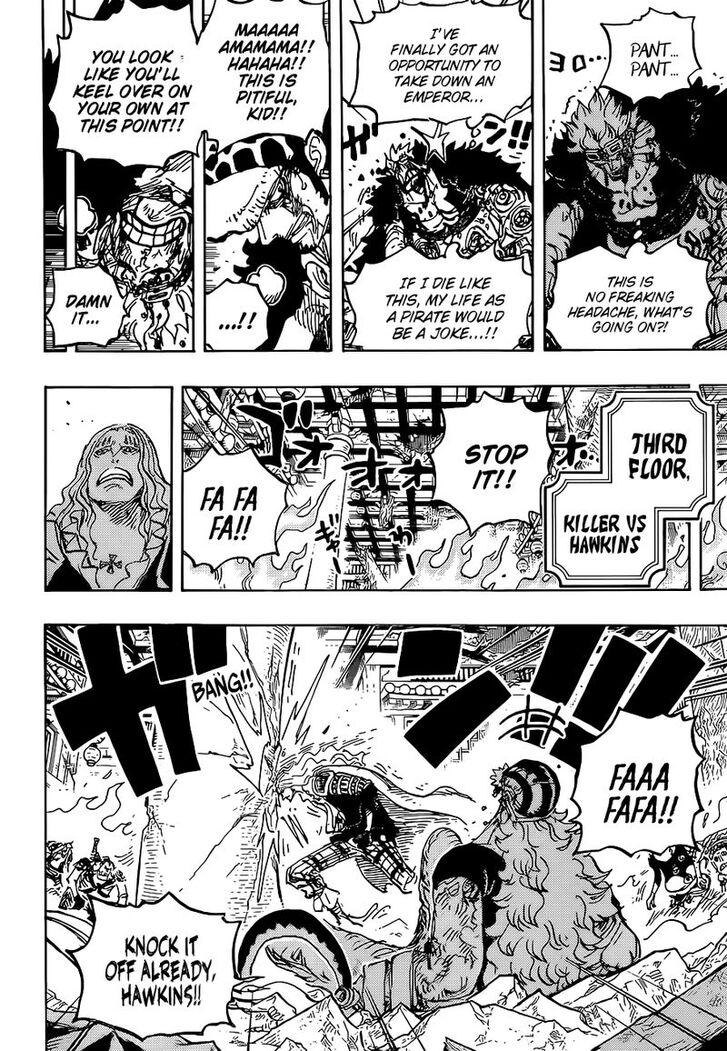Bubble: (66, 889, 243, 1043), (46, 0, 195, 168), (348, 0, 535, 127), (343, 239, 535, 351), (567, 705, 708, 856), (542, 232, 718, 352), (205, 0, 334, 152), (429, 389, 554, 538), (181, 444, 290, 575), (600, 388, 717, 485), (596, 5, 704, 103), (559, 506, 667, 589), (43, 263, 130, 347), (204, 278, 271, 352)
